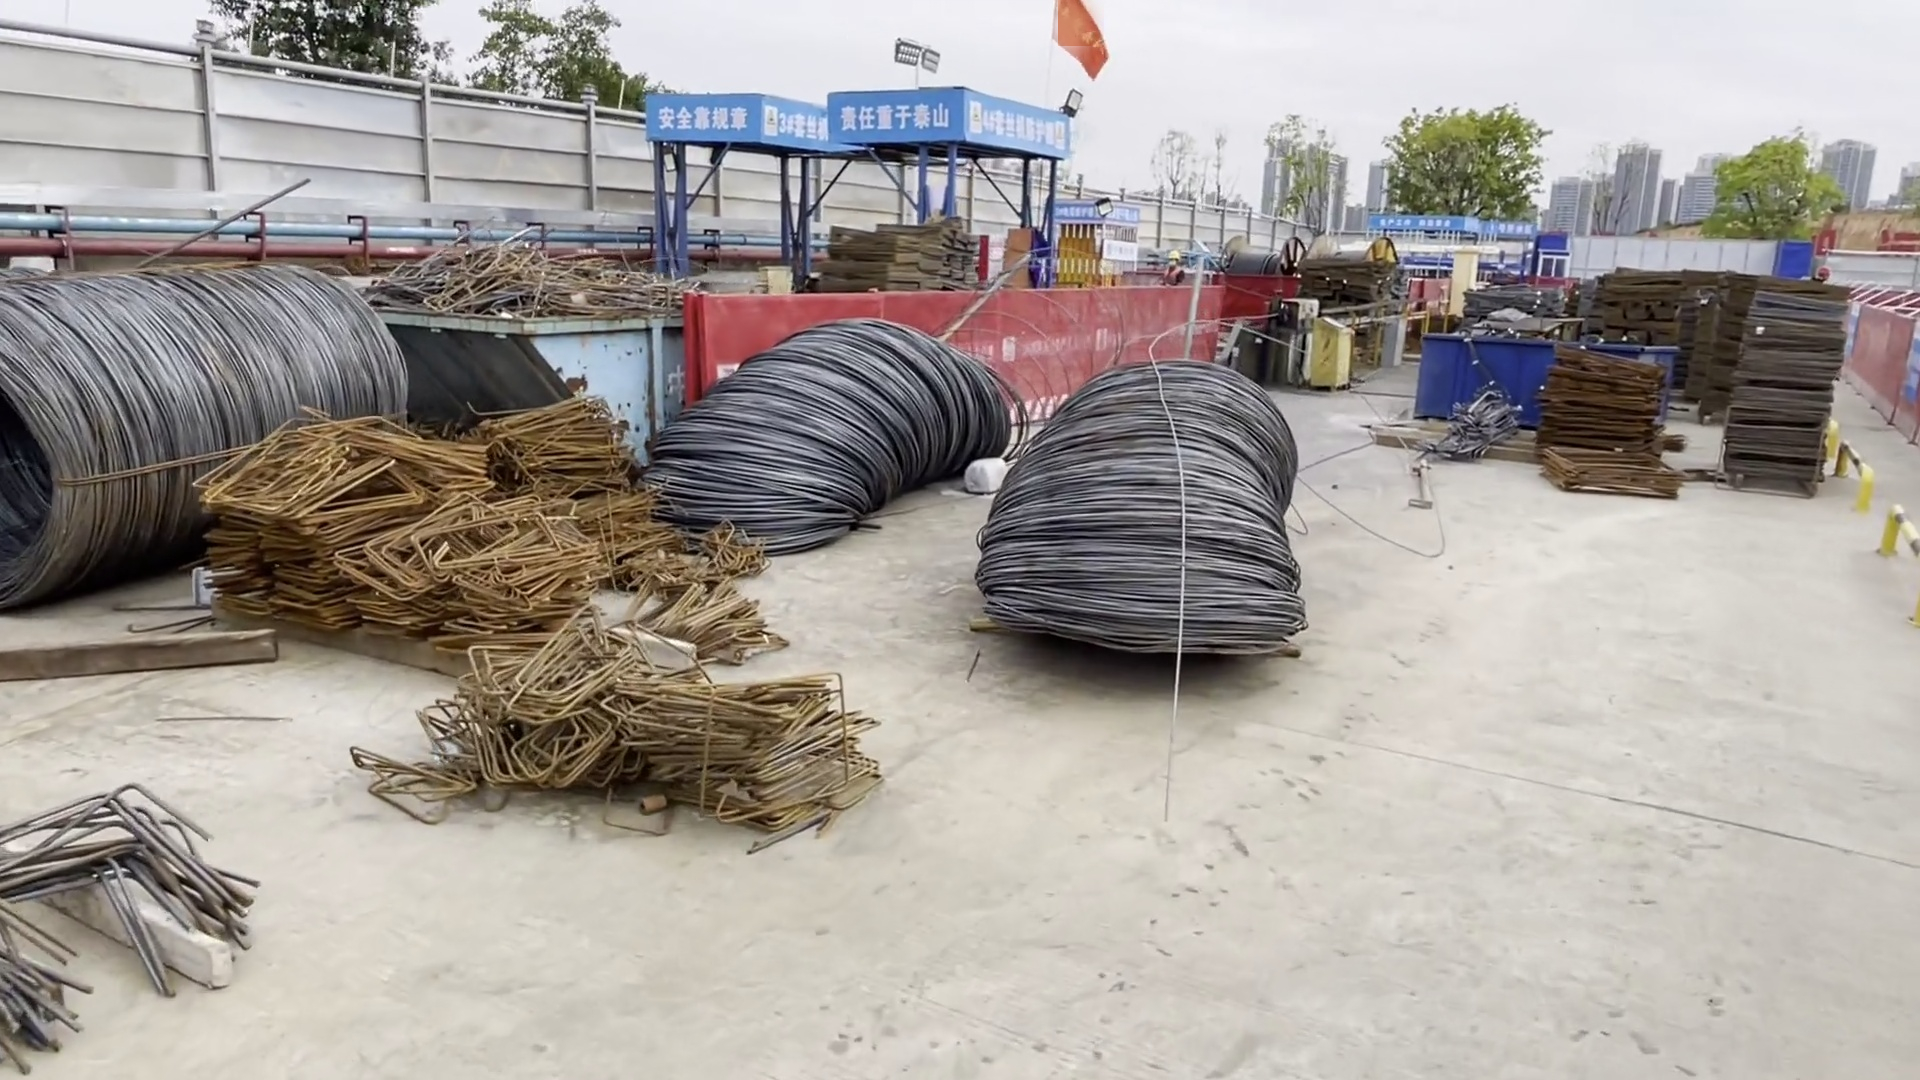ebox: (1446, 251, 1470, 317)
fence: (689, 288, 1226, 392), (1847, 302, 1913, 450)
helmet: (1168, 248, 1177, 259)
hopper: (383, 290, 682, 445), (1417, 330, 1663, 419)
person: (1158, 250, 1182, 281)
rebar: (1430, 393, 1516, 454)
slogan: (832, 92, 1066, 145), (643, 92, 821, 150), (1369, 212, 1527, 240), (1050, 201, 1141, 224)
vest: (1160, 260, 1178, 277)
